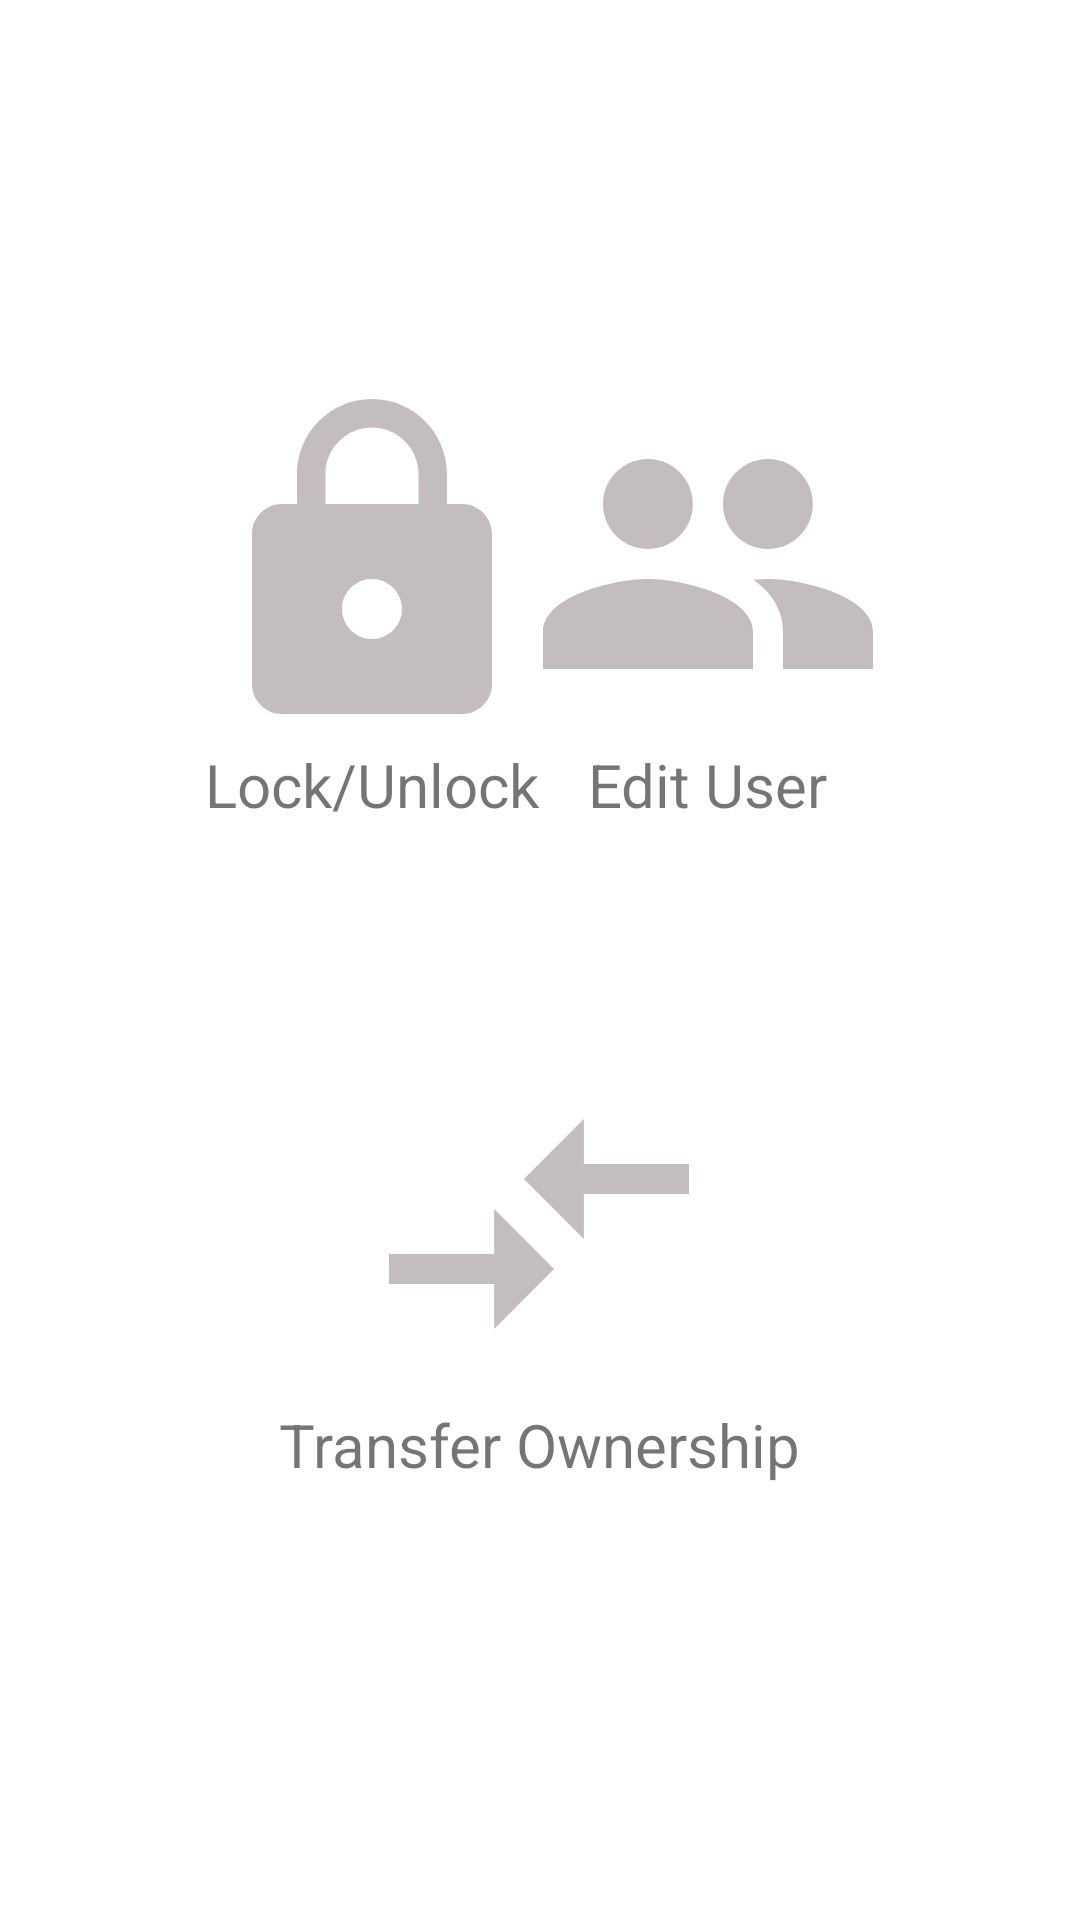

Icons on this 1080w x 1920h Android screen, each with its box as (x1=x1, y1=y1, x2=x2, y2=y2):
compare arrows: (x1=389, y1=1119, x2=689, y2=1329)
people: (x1=543, y1=459, x2=873, y2=669)
